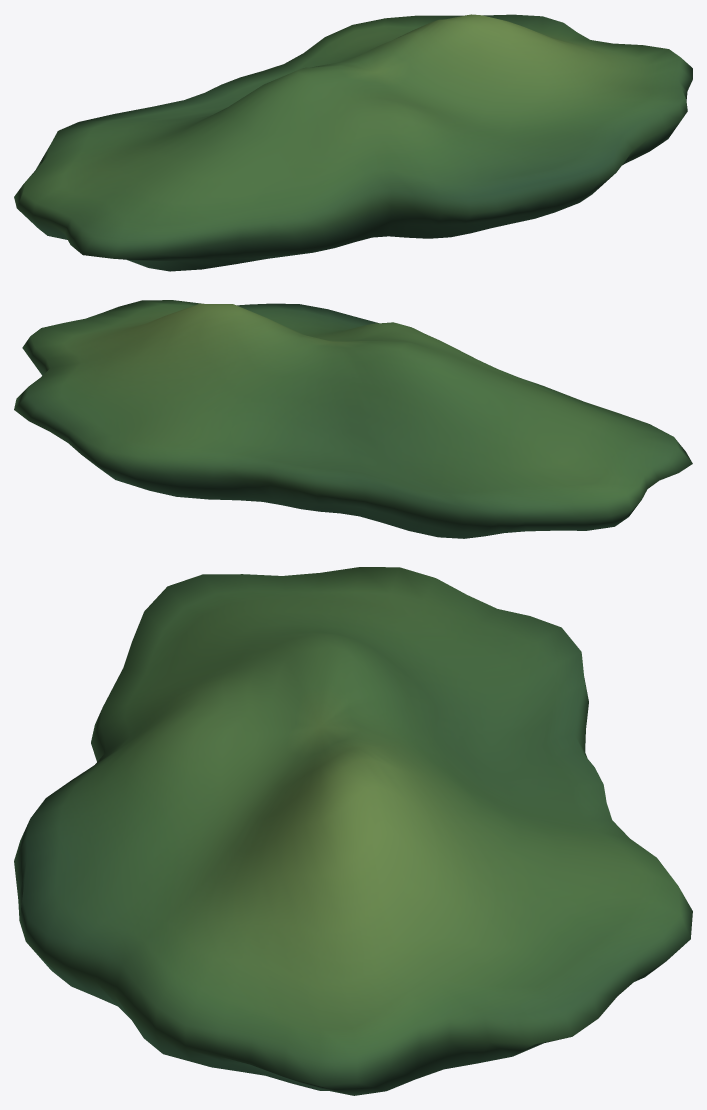
File: ForestEdge_A.fbx
3 renders of one model, top to bottom at view 1: azimuth 30°, elevation 25°; view 2: azimuth 150°, elevation 25°; view 3: azimuth 270°, elevation 25°, orthographic. The views are drawn at different scales.
Visible parts, largest first — view 1: ForestEdge_A; view 2: ForestEdge_A; view 3: ForestEdge_A.
Part boxes in pixels (x1=…): ForestEdge_A: x1=14, y1=14, x2=692, y2=271; ForestEdge_A: x1=14, y1=300, x2=692, y2=538; ForestEdge_A: x1=14, y1=567, x2=692, y2=1095.
Bounding box in the file's own units: 4045 × 781 × 2315.
1 material, 1 textured.
